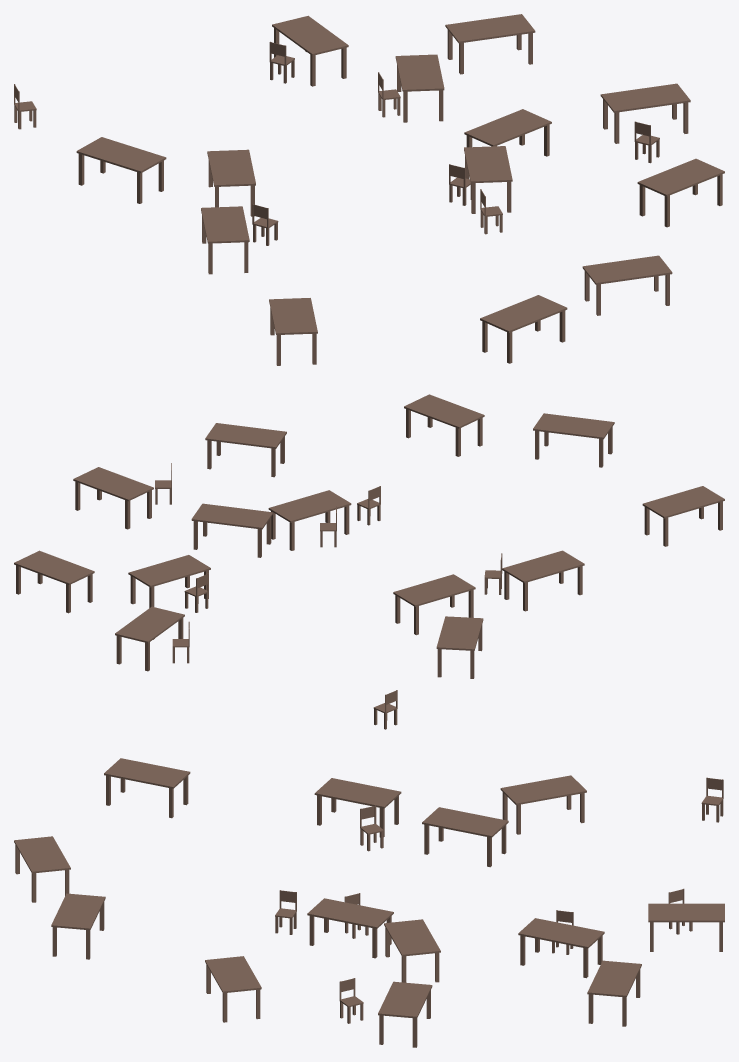
File: Tables.fbx
The picture shows the model from 3 angles, top to bottom: view 1: azimuth 30°, elevation 25°; view 2: azimuth 150°, elevation 25°; view 3: azimuth 270°, elevation 25°; orthographic projection. The views are drawn at different scales.
Visible parts, largest first — view 1: dfsgffgddf; view 2: dfsgffgddf; view 3: dfsgffgddf.
Part boxes in pixels (left/top/right/bottom): dfsgffgddf: left=14, top=14, right=724, bottom=365; dfsgffgddf: left=14, top=394, right=724, bottom=729; dfsgffgddf: left=14, top=758, right=724, bottom=1047.
Bounding box in the file's own units: 15.33 × 0.994 × 17.8.
